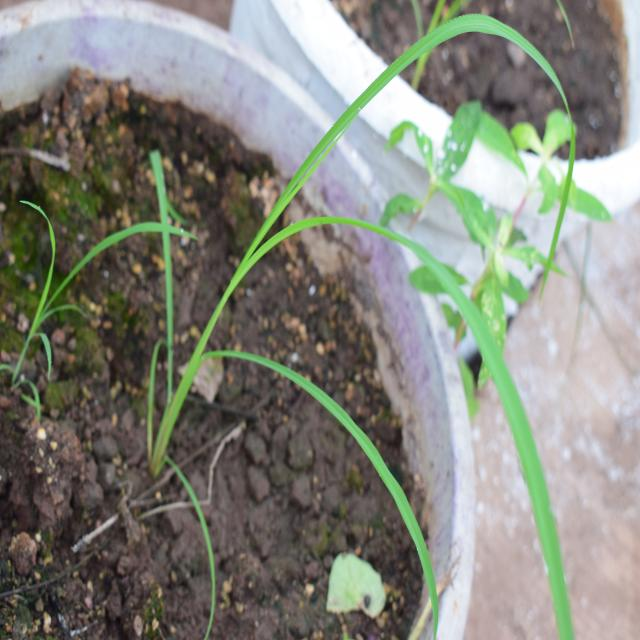barnyard_grass: (146, 62, 580, 591)
